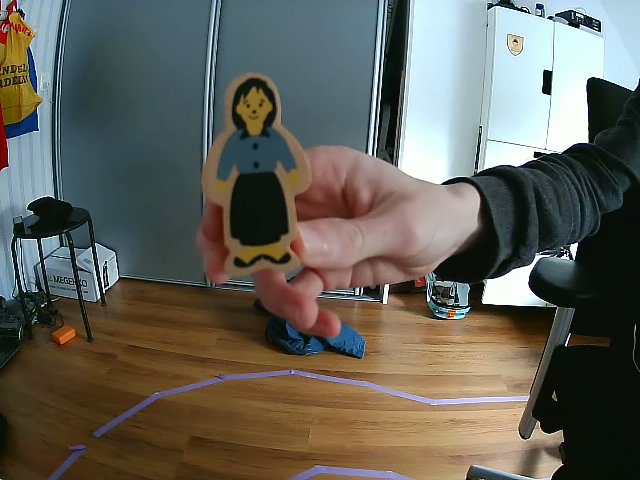mens: (199, 73, 313, 275)
